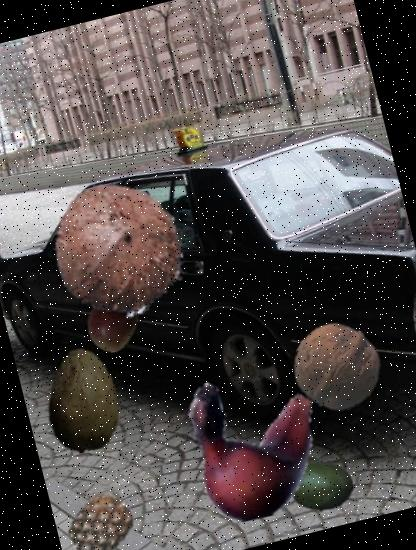Banana: (172, 357, 348, 533)
Cocos: (35, 166, 202, 333)
Mango: (282, 447, 362, 527), (77, 287, 150, 359)
Papaya: (20, 336, 150, 467)
Pineapple: (60, 486, 140, 550)
Walnut: (285, 314, 389, 419)
